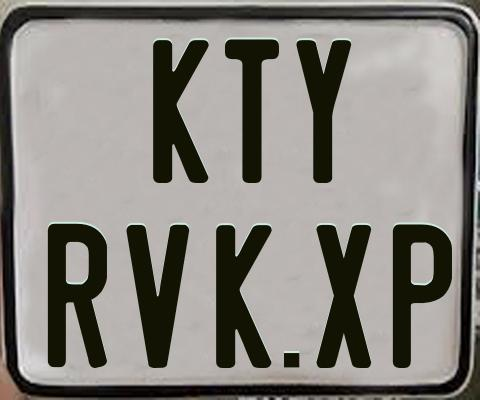K: (214, 223, 276, 369), (152, 39, 211, 184)
P: (393, 222, 457, 370)
R: (47, 224, 108, 373)
T: (222, 37, 282, 183)
V: (123, 225, 188, 368)
X: (313, 225, 372, 372)
Y: (293, 38, 349, 187)
